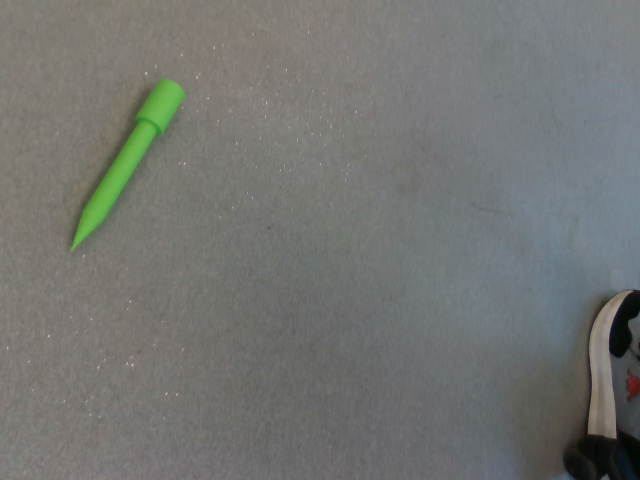Probe: (64, 71, 193, 262)
